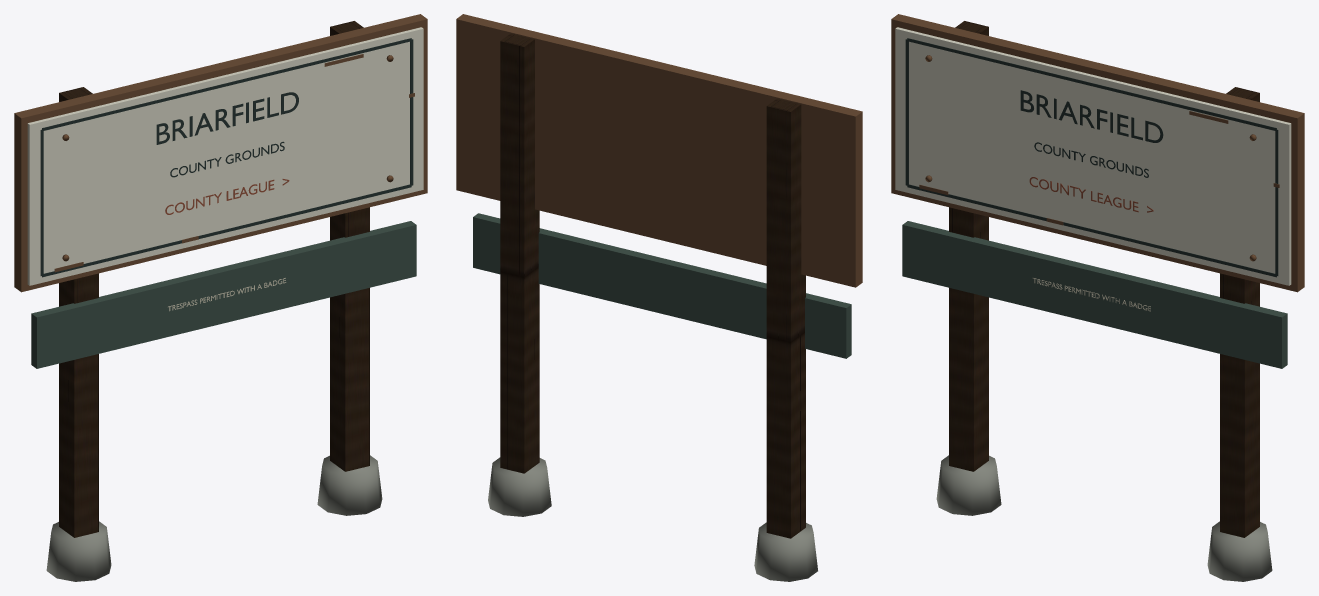
File: waymarker-briarfield.glb
3 renders of one model, left to right at view 1: azimuth 30°, elevation 25°; view 2: azimuth 150°, elevation 25°; view 3: azimuth 330°, elevation 25°, orthographic.
Parts seen in each view (by area): view 1: Reflective enamel face, Lower regulation plaque, Steel folded sign back, Weathered timber upright, Weathered timber upright.001, Concrete footing.001, Concrete footing, Destination, Printed border.001, Printed border, Printed border.002, Direction (+2 smaller); view 2: Steel folded sign back, Lower regulation plaque, Weathered timber upright, Weathered timber upright.001, Concrete footing.001, Concrete footing; view 3: Reflective enamel face, Lower regulation plaque, Steel folded sign back, Weathered timber upright.001, Weathered timber upright, Concrete footing, Concrete footing.001, Printed border.001, Destination, Printed border, Printed border.002, Printed border.003 (+2 smaller).
Part boxes in pixels (bbox=[...]): Reflective enamel face: bbox=[27, 27, 423, 285]; Lower regulation plaque: bbox=[31, 221, 416, 368]; Steel folded sign back: bbox=[14, 14, 427, 292]; Weathered timber upright: bbox=[59, 87, 98, 537]; Weathered timber upright.001: bbox=[330, 21, 369, 471]; Concrete footing.001: bbox=[317, 455, 382, 515]; Concrete footing: bbox=[46, 521, 111, 581]; Destination: bbox=[156, 92, 298, 144]; Printed border.001: bbox=[42, 38, 411, 131]; Printed border: bbox=[42, 184, 411, 277]; Printed border.002: bbox=[40, 129, 43, 275]; Direction: bbox=[165, 179, 289, 214]; Steel folded sign back: bbox=[456, 14, 862, 287]; Lower regulation plaque: bbox=[473, 213, 851, 358]; Weathered timber upright: bbox=[766, 98, 805, 538]; Weathered timber upright.001: bbox=[500, 33, 539, 473]; Concrete footing.001: bbox=[488, 457, 551, 516]; Concrete footing: bbox=[754, 522, 817, 581]; Reflective enamel face: bbox=[895, 27, 1291, 285]; Lower regulation plaque: bbox=[902, 221, 1287, 368]; Steel folded sign back: bbox=[891, 14, 1304, 292]; Weathered timber upright.001: bbox=[1220, 87, 1259, 537]; Weathered timber upright: bbox=[949, 21, 988, 471]; Concrete footing: bbox=[936, 455, 1001, 515]; Concrete footing.001: bbox=[1207, 521, 1272, 581]; Printed border.001: bbox=[907, 38, 1276, 131]; Destination: bbox=[1020, 90, 1163, 142]; Printed border: bbox=[907, 184, 1276, 277]; Printed border.002: bbox=[905, 39, 908, 185]; Printed border.003: bbox=[1275, 129, 1278, 275].
Bounding box in the file's own units: 1.98 × 2.2 × 0.28.
Materials: 8 (1 with a texture image).
